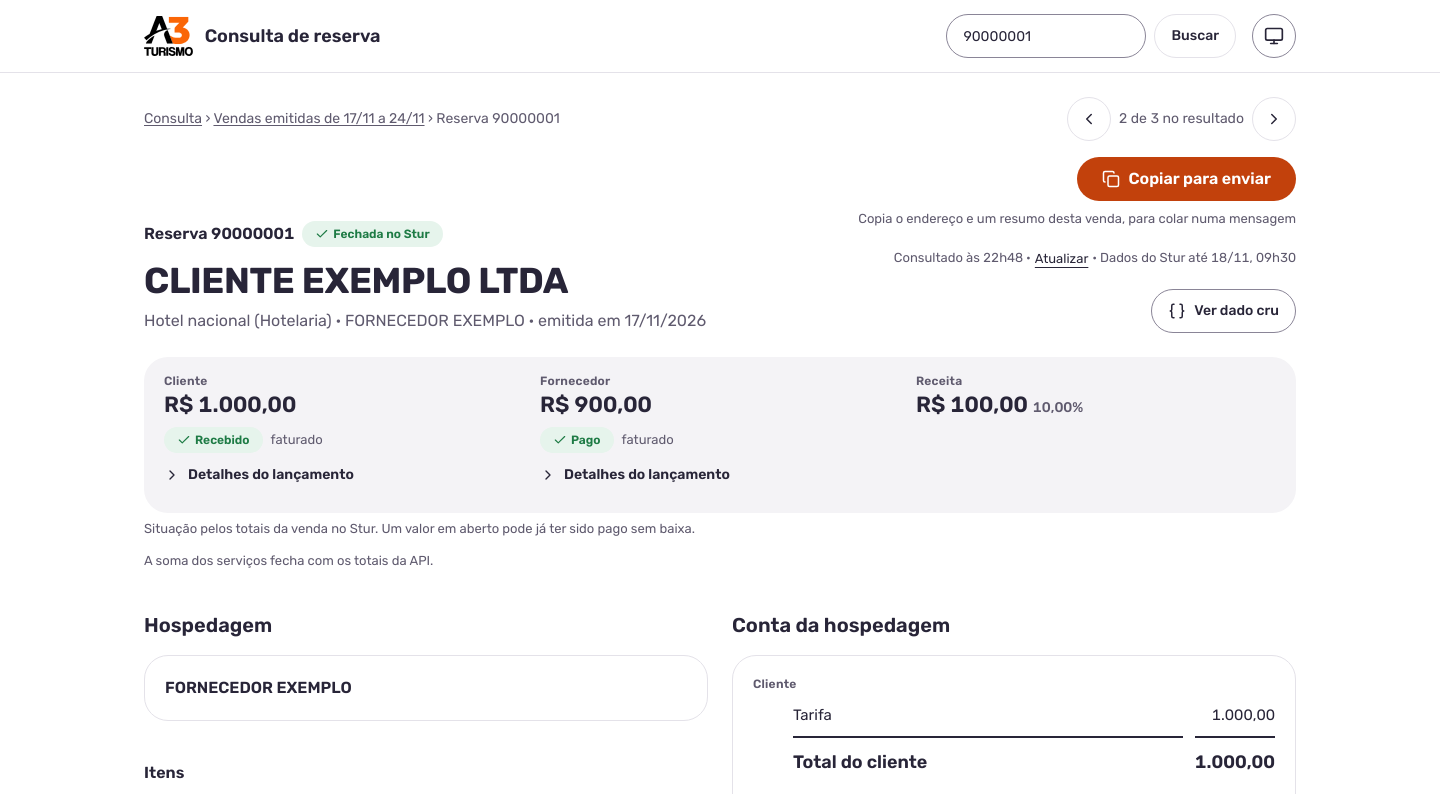
Test: chegar pela busca do topo depois de passar pelo resultado não mostra as setas
This screenshot has width=1440, height=794.
Check: the text "2 de 3 no resultado" is shown, box left=1119, top=109, right=1244, bottom=129
Click the button "Buscar" at (1195, 36), box left=1154, top=14, right=1236, bottom=58
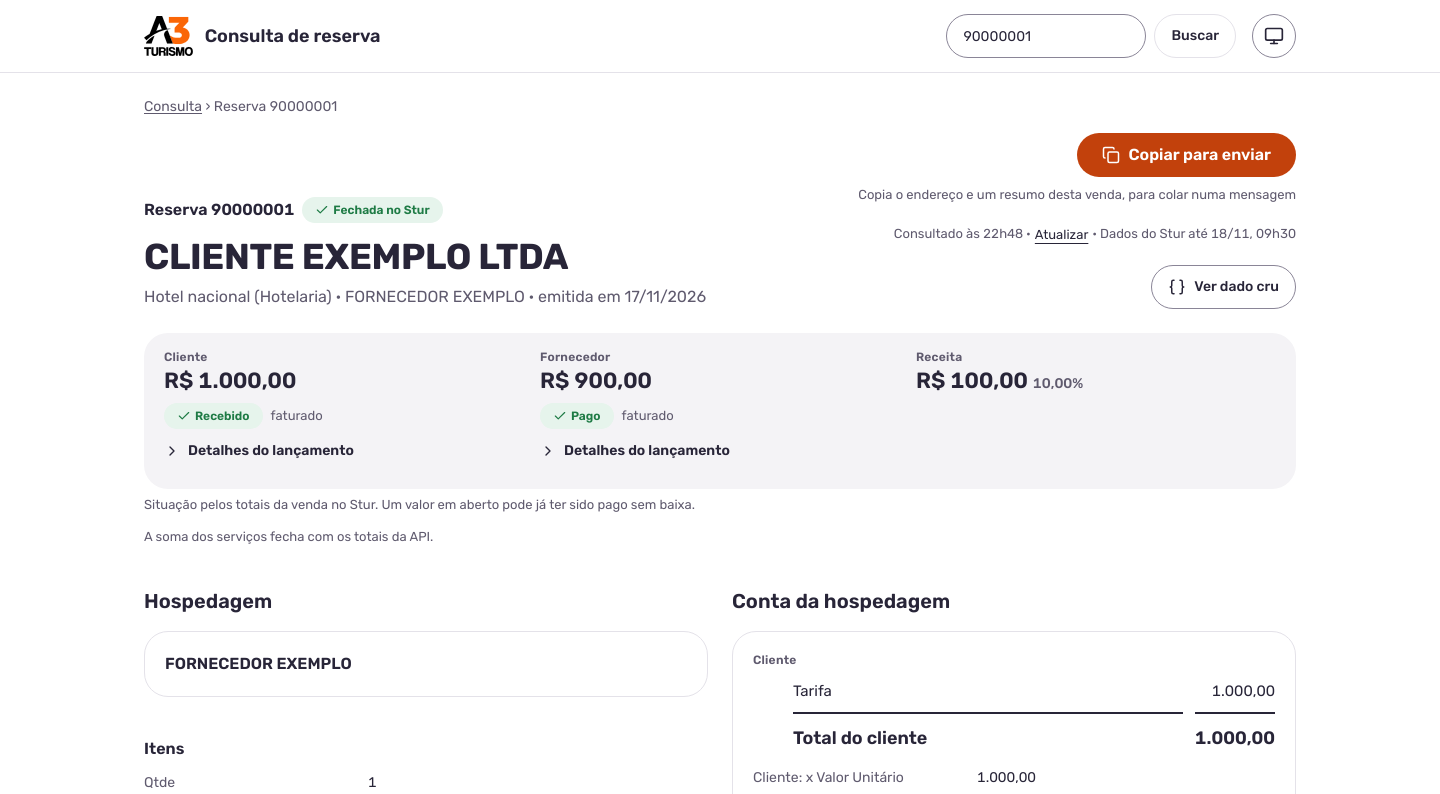
Check: the text "no resultado" is gone
Check: the navigation bar named "Caminho" reads "Consulta › Reserva 90000001", box left=144, top=97, right=337, bottom=117
